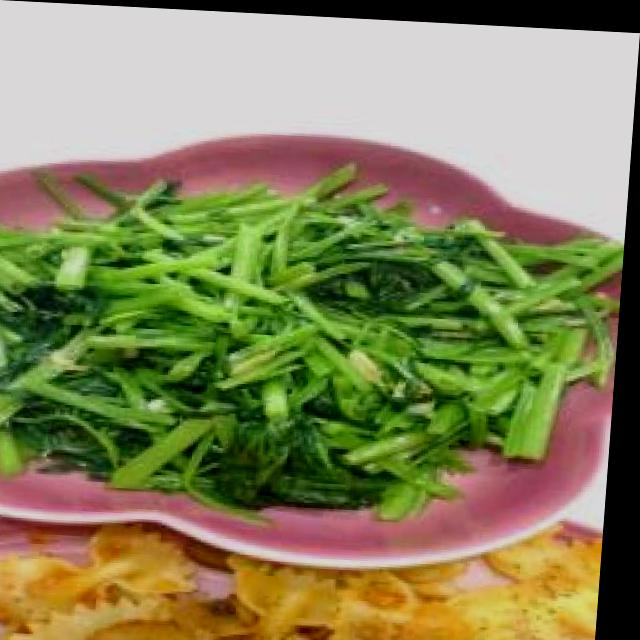water_spinach: (44, 221, 495, 472)
